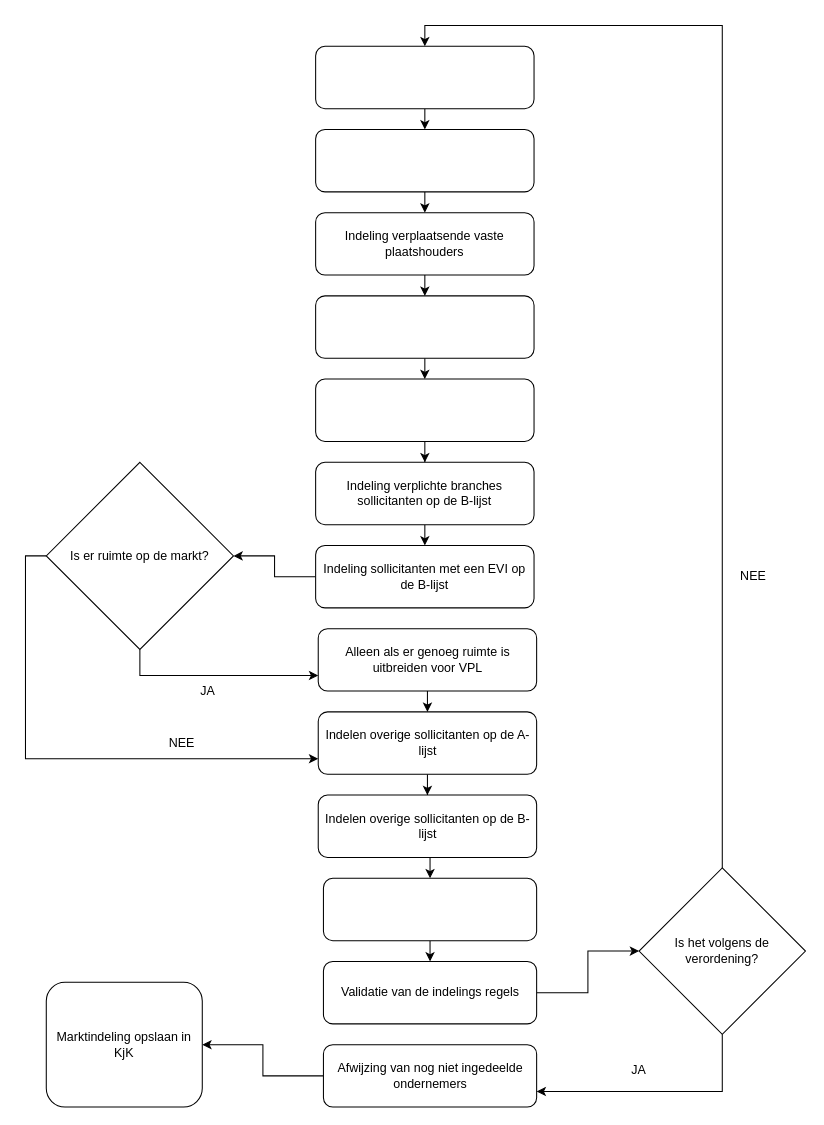
The diagram is 824 pixels wide and 1125 high, and some of its shapes have lost their labels. The shapes that lost their labels are listed below. From the top down, each one's box as (x1, y1, x2, y2) in pixels, then its label:
(315, 45, 534, 109): Markt analyse
(315, 128, 534, 192): Indeling vaste plaatshouders
(315, 295, 534, 358): Indeling verplichte branches sollicitanten op de A-lijst
(315, 378, 534, 441): Indeling sollicitanten met een EVI op de A-lijst
(322, 877, 537, 941): Uitbreidingen voor SOLL (en voor VPL indien krappe markt)
